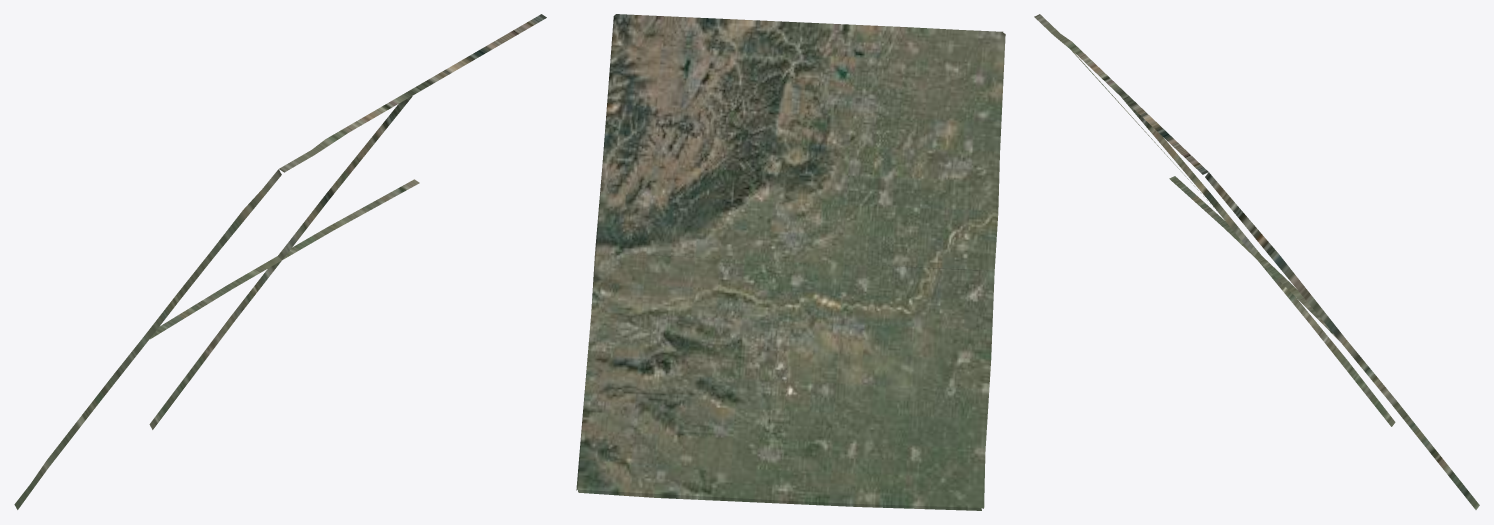
3 views of the same model, side by side, from view 1: azimuth 30°, elevation 25°; view 2: azimuth 150°, elevation 25°; view 3: azimuth 270°, elevation 25° (orthographic). The views are drawn at different scales.
Size of the model in its own units: 310041 by 259653 by 272188.
Materials: 1 (1 with a texture image).
